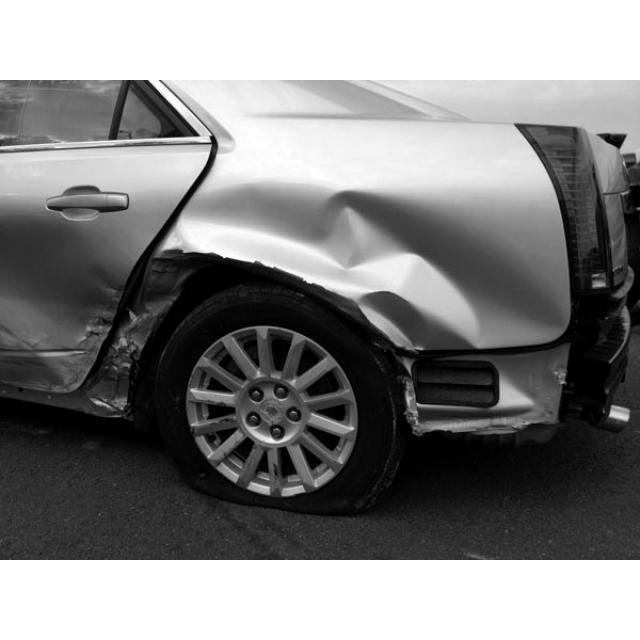boot-dent: (571, 126, 635, 276)
quaterpanel-dent: (191, 109, 538, 372), (79, 239, 193, 412)
rear-bumper-dent: (391, 354, 579, 451)
